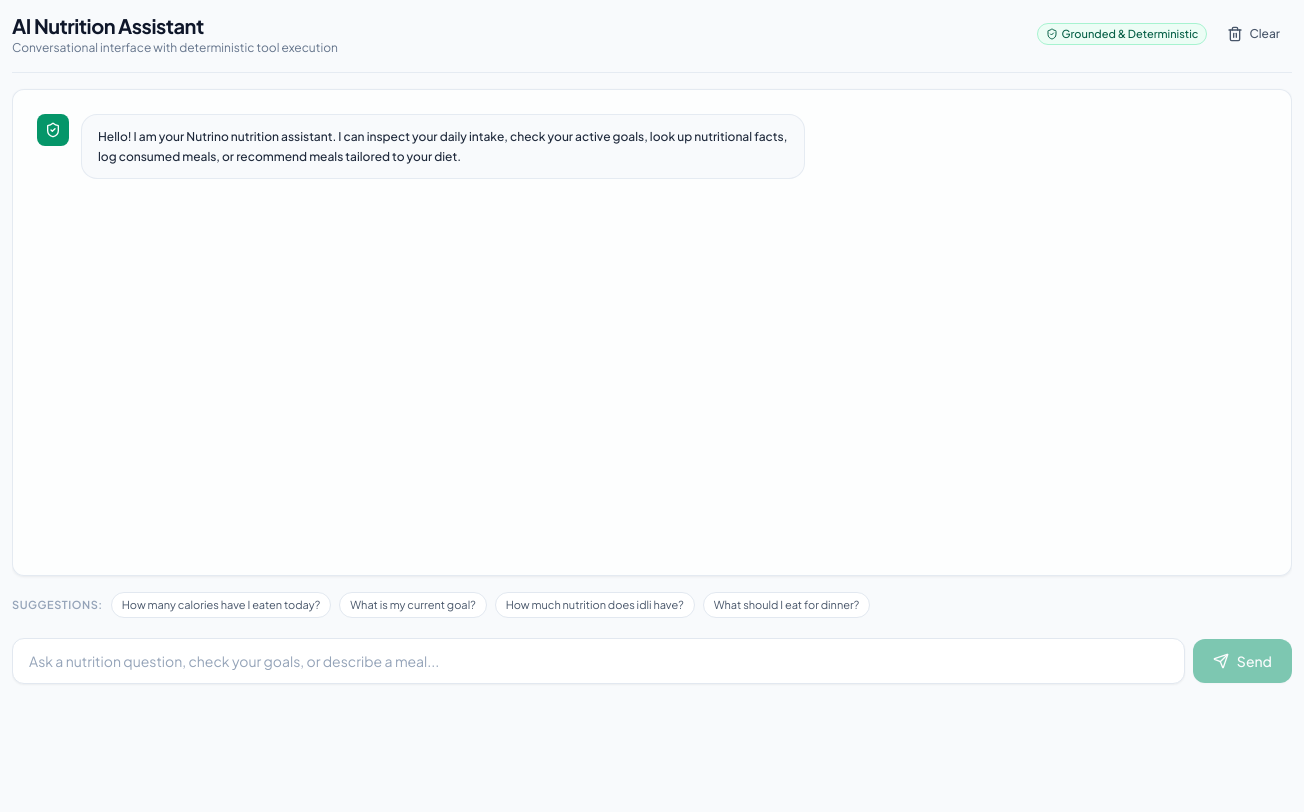
Test: AssistantPage › renders initial welcome message and sends user query
Expected: the text "Hello! I am your Nutrino nutrition assistant" is shown, x1=98 y1=129 x2=787 y2=164
Replace the text in the field with placeholder "Ask a nutrition question" with "How many calories have I eaten today?": (598, 661) x1=12 y1=638 x2=1185 y2=684
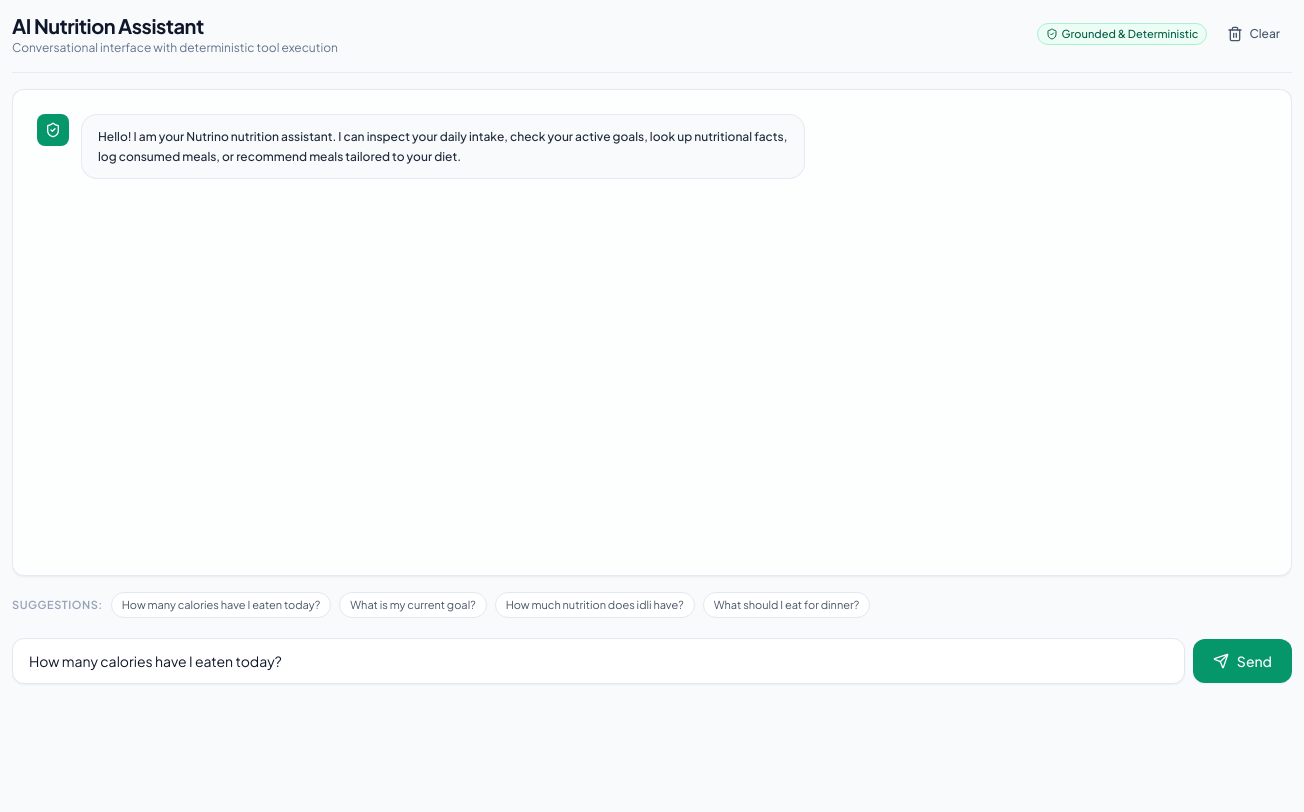
Click the button "Send": (1242, 661) x1=1193 y1=639 x2=1292 y2=683
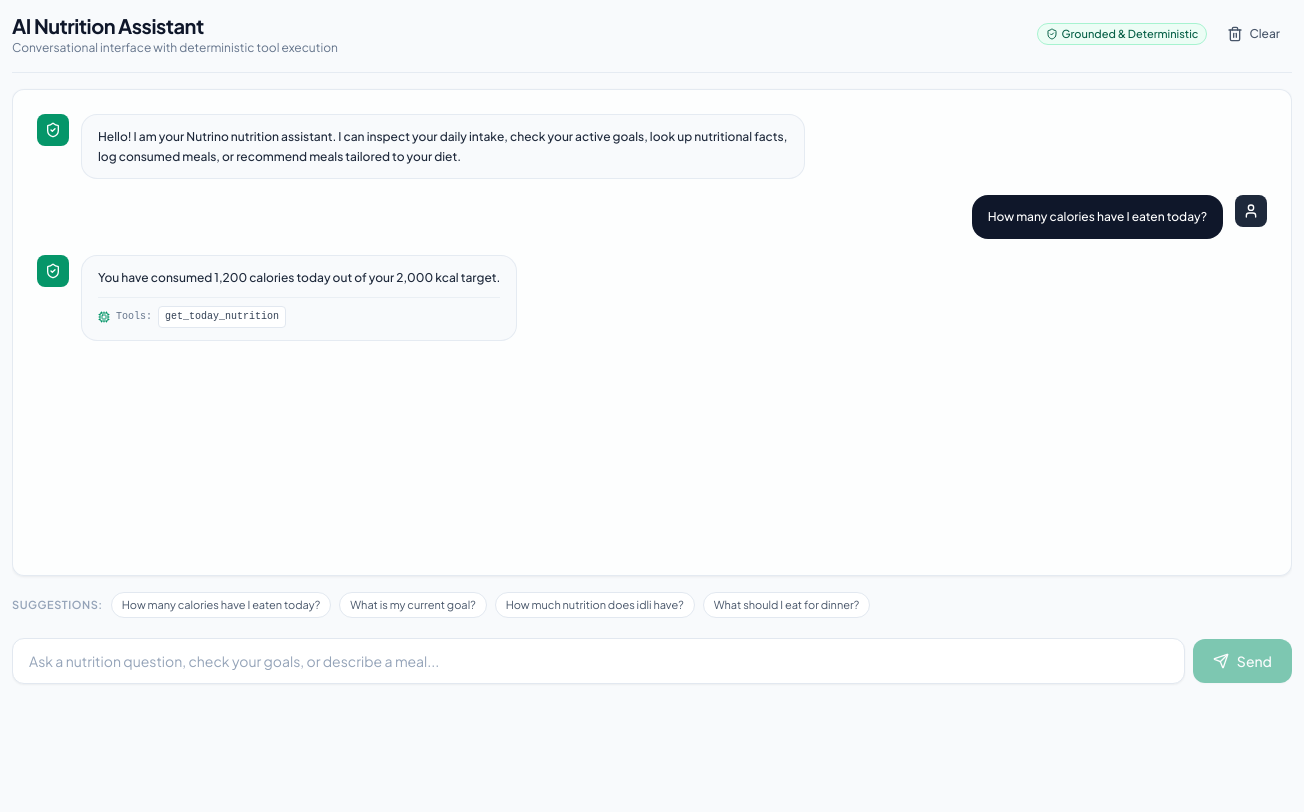
Expected: the text "You have consumed 1,200 calories today" is shown, x1=98 y1=270 x2=500 y2=284
Expected: the text "get_today_nutrition" is shown, x1=158 y1=306 x2=286 y2=328
